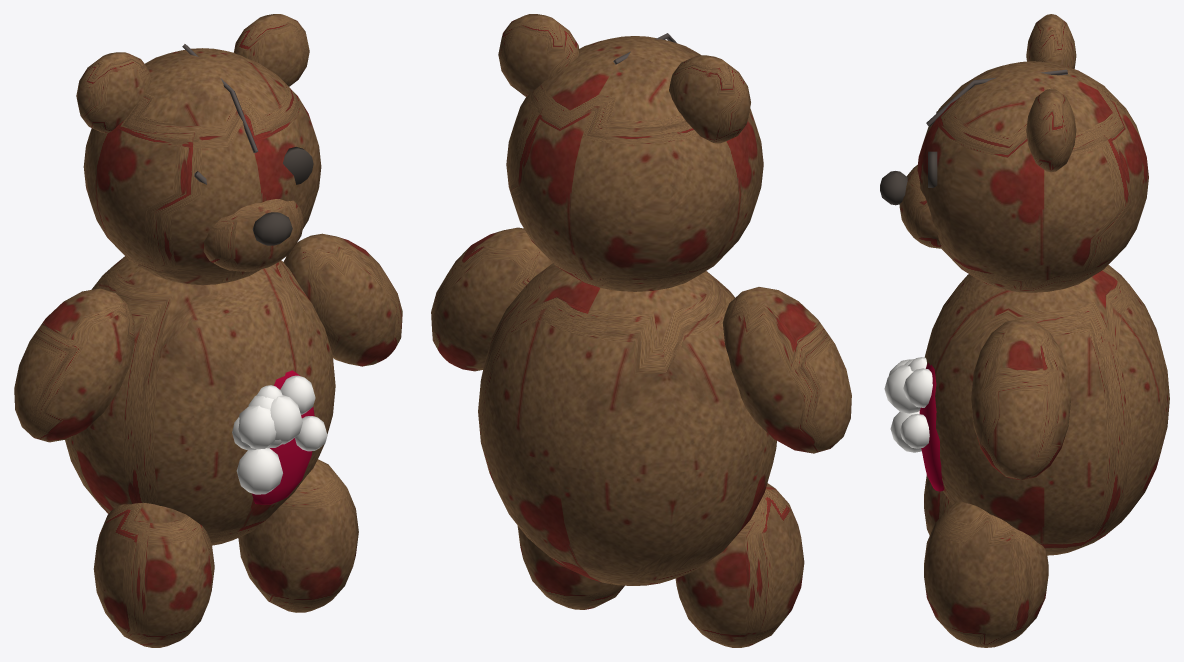
The model's file is 継ぎはぎの熊_teddy.glb.
3 views of the same model, side by side, from view 1: azimuth 30°, elevation 25°; view 2: azimuth 150°, elevation 25°; view 3: azimuth 270°, elevation 25° (orthographic). The views are drawn at different scales.
Parts seen in each view (by area): view 1: teddy; view 2: teddy; view 3: teddy.
Part boxes in pixels (left/top/right/bottom): teddy: left=14, top=14, right=402, bottom=647; teddy: left=431, top=14, right=851, bottom=647; teddy: left=880, top=14, right=1169, bottom=647.
Bounding box in the file's own units: 0.1835 × 0.263 × 0.1247.
Materials: 5 (1 with a texture image).
